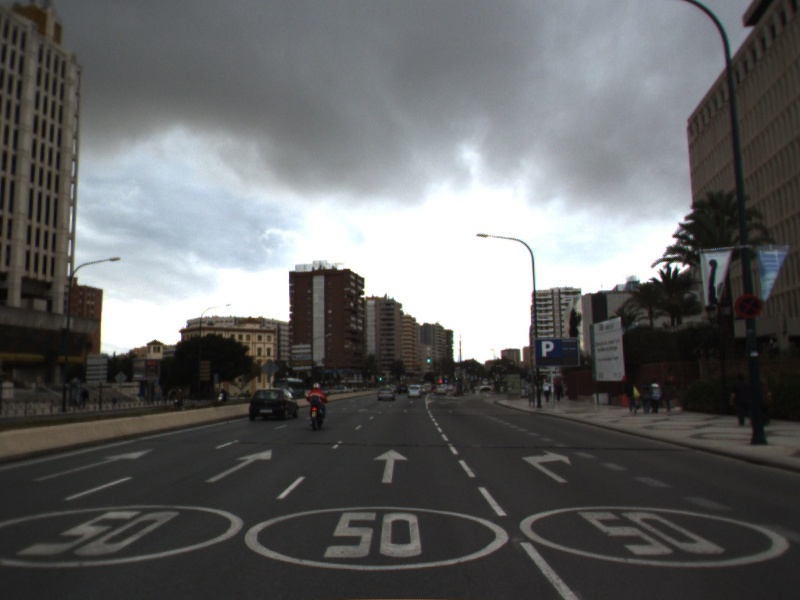RIGHT: (519, 448, 574, 485)
STRAIGHT: (29, 447, 155, 483), (202, 447, 274, 484), (371, 447, 411, 484)
